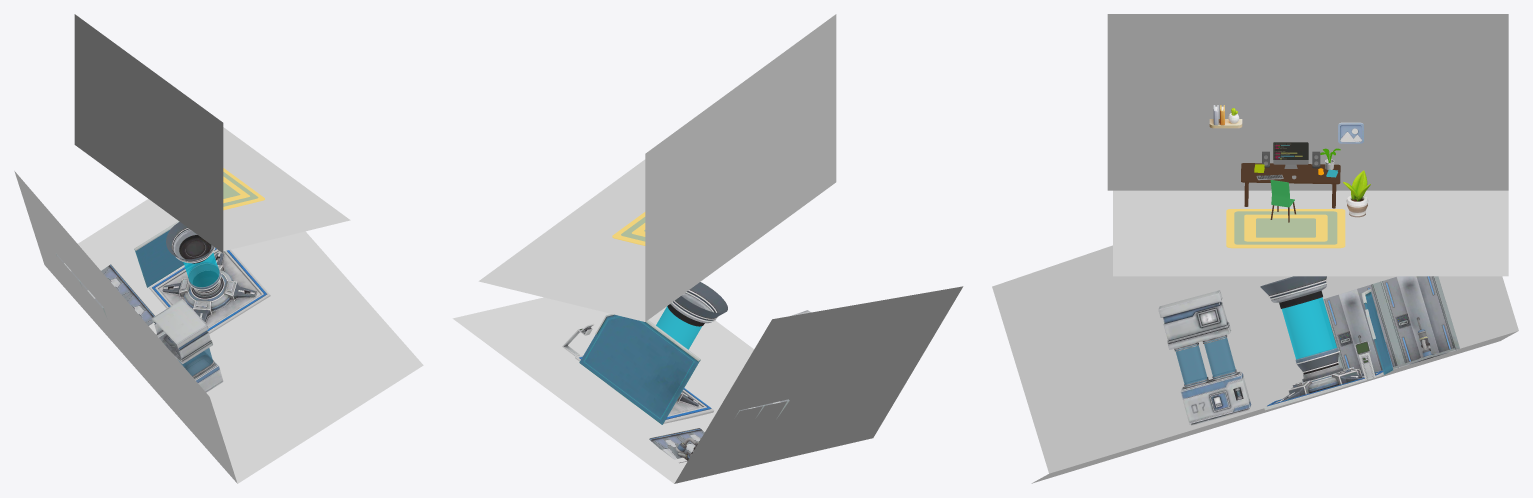
File: environment_final2.glb
The picture shows the model from 3 angles, left to right: view 1: azimuth 30°, elevation 25°; view 2: azimuth 150°, elevation 25°; view 3: azimuth 270°, elevation 25°; orthographic projection. The views are drawn at different scales.
Visible parts, largest first — view 1: lab_ground_wall, wall, ground, Object_10.001, Object_10.005, Object_10.006, Object_10.008, Object_10.003, room-base.004, Object_10.009; view 2: lab_ground_wall, wall, ground, Object_10.008, Object_10.001, Object_10.003, Object_10.009, Object_10.006, room-base.004; view 3: wall, lab_ground_wall, ground, Object_10.003, Object_10.005, room-base.004, Object_10.001, Object_10.009, Plane_Material.002_0.002, Object_10.008, room-base.005, screen.001 (+3 smaller).
Boxes of the visible parts, x1,y1,x2,y2 form: lab_ground_wall: (14,171,423,483); wall: (74,14,223,253); ground: (223,127,350,251); Object_10.001: (162,222,256,322); Object_10.005: (151,299,223,392); Object_10.006: (149,248,270,333); Object_10.008: (134,221,185,287); Object_10.003: (56,253,154,325); room-base.004: (223,168,264,210); Object_10.009: (183,252,219,287); lab_ground_wall: (452,286,963,483); wall: (645,14,836,321); ground: (478,159,645,321); Object_10.008: (579,314,700,424); Object_10.001: (667,282,727,407); Object_10.003: (649,399,789,463); Object_10.009: (656,306,702,349); Object_10.006: (575,355,713,423); room-base.004: (612,212,645,245); wall: (1107,14,1508,190); lab_ground_wall: (992,245,1518,483); ground: (1113,190,1508,276); Object_10.003: (1319,276,1459,372); Object_10.005: (1158,290,1251,425); room-base.004: (1226,209,1345,248); Object_10.001: (1260,276,1376,402); Object_10.009: (1281,297,1336,359); Plane_Material.002_0.002: (1241,163,1340,208); Object_10.008: (1361,289,1393,374); room-base.005: (1343,170,1370,217); screen.001: (1273,142,1308,159).
Size of the model in its own units: 20.91 by 27.29 by 28.07.
34 materials, 13 textured.
